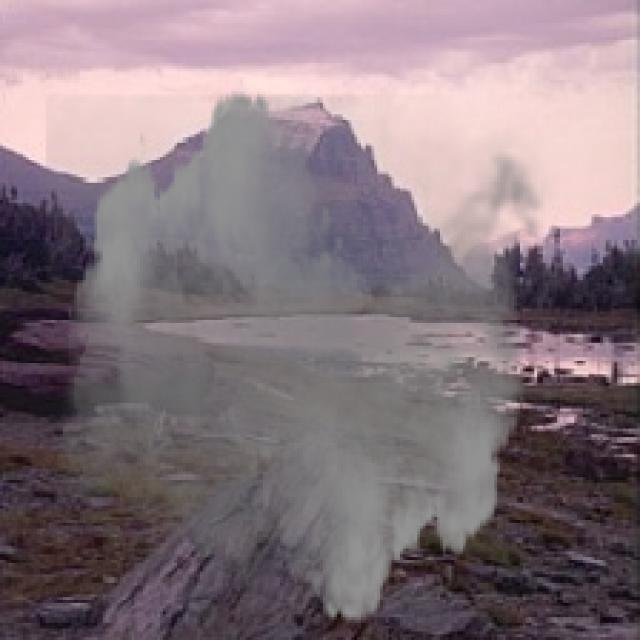smoke: (46, 74, 563, 637)
